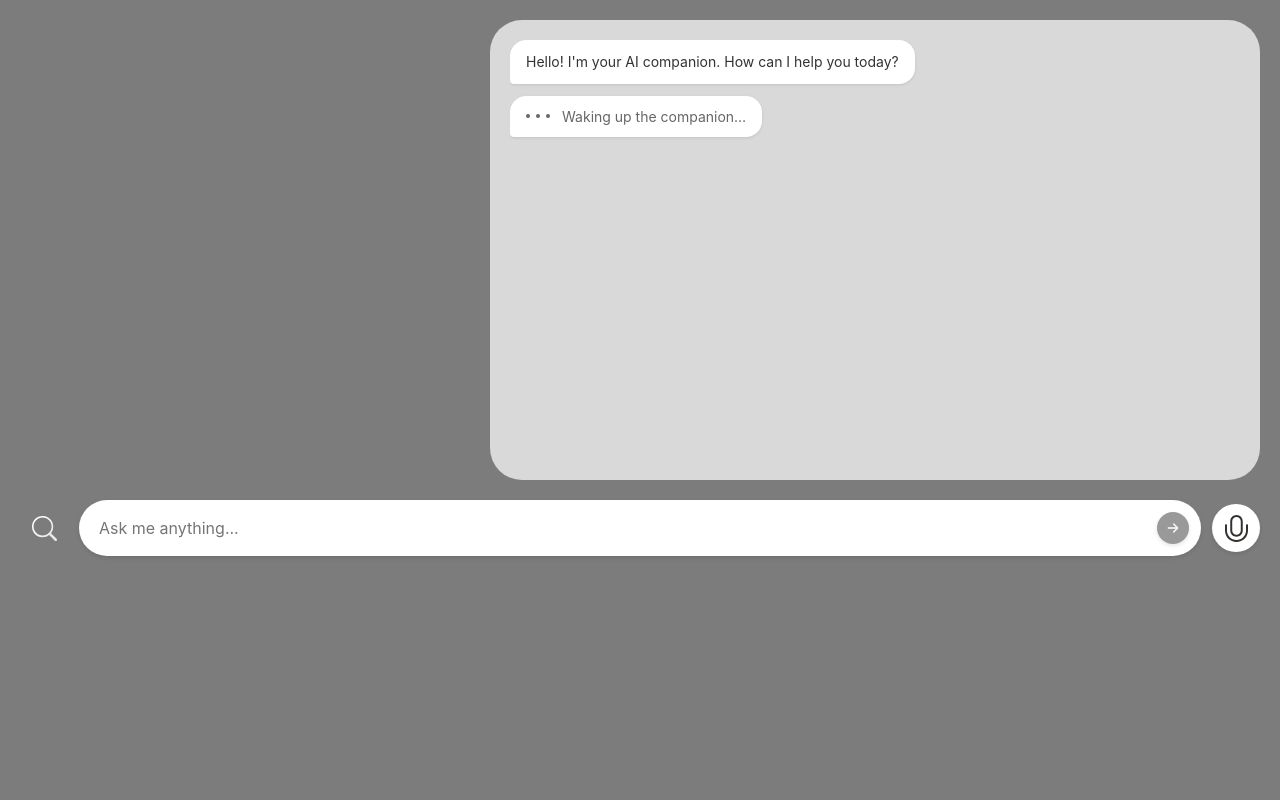
Test case: readiness failure retains the submission and explicit retry sends it once after recovery
The width and height of the screenshot is (1280, 800).
Step 1. Type "My question" into the field → (640, 528), box [79,500,1201,556]
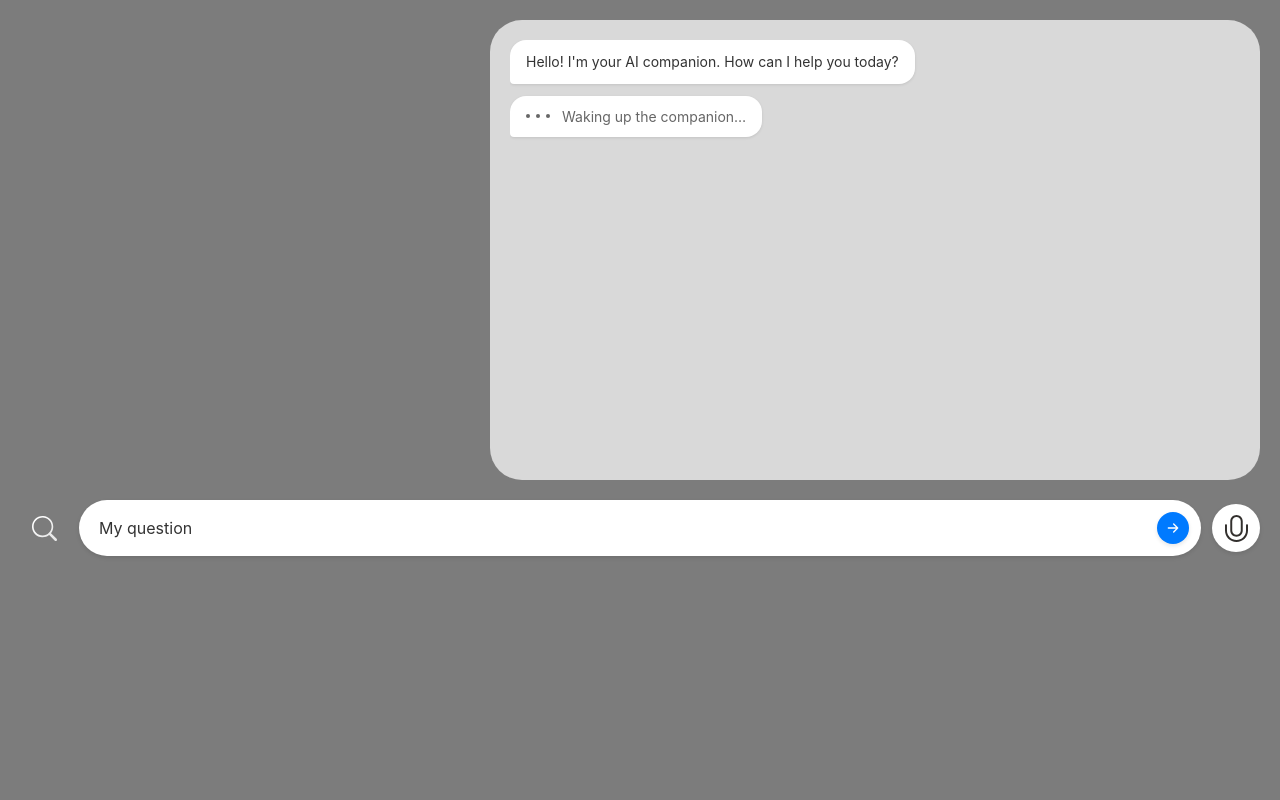
Step 2. Click the button named "Send message" → (1173, 528), box [1157,512,1189,544]
Wait 90000 ms
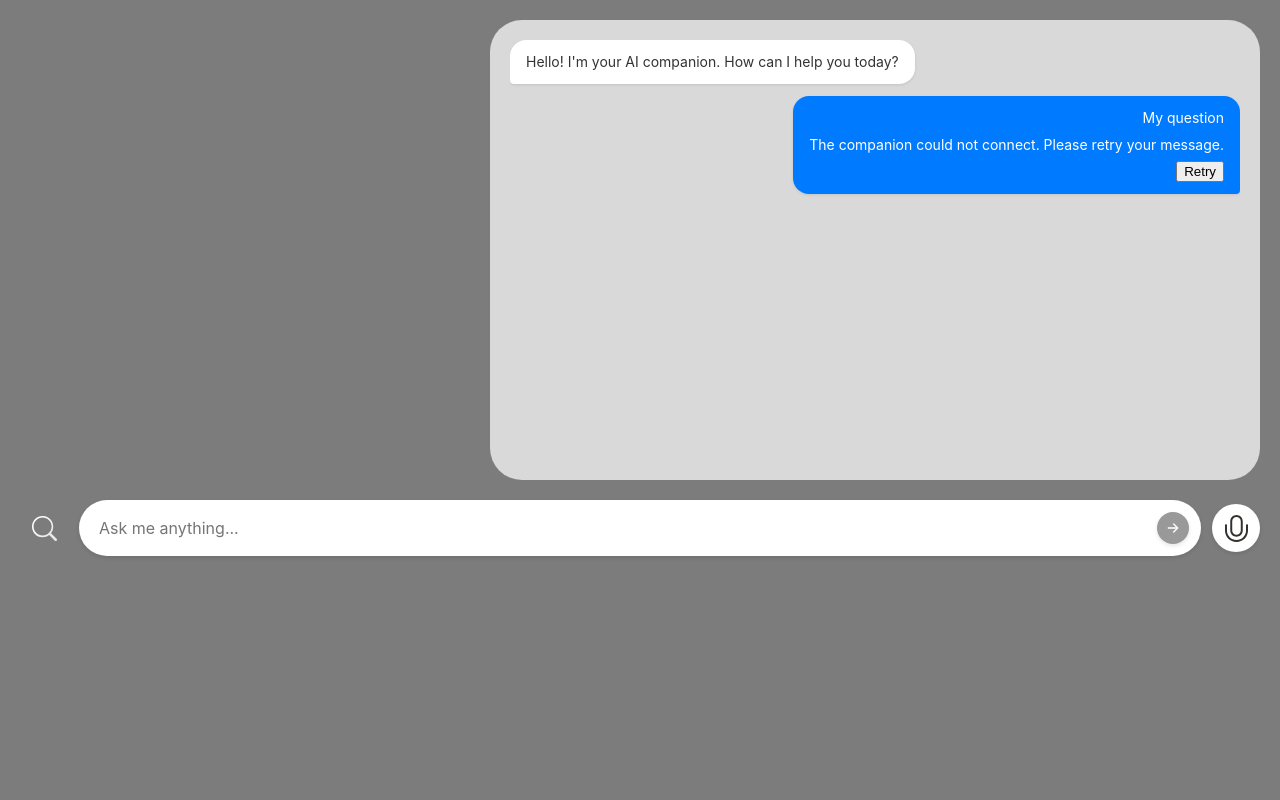
Result: the message shows "could not connect" at [809,136,1224,153]
Result: the text "My question" is shown once at [793,96,1240,194]
Step 3. Click the button with aria-label "Retry message" → (1200, 171), box [1176,161,1224,182]
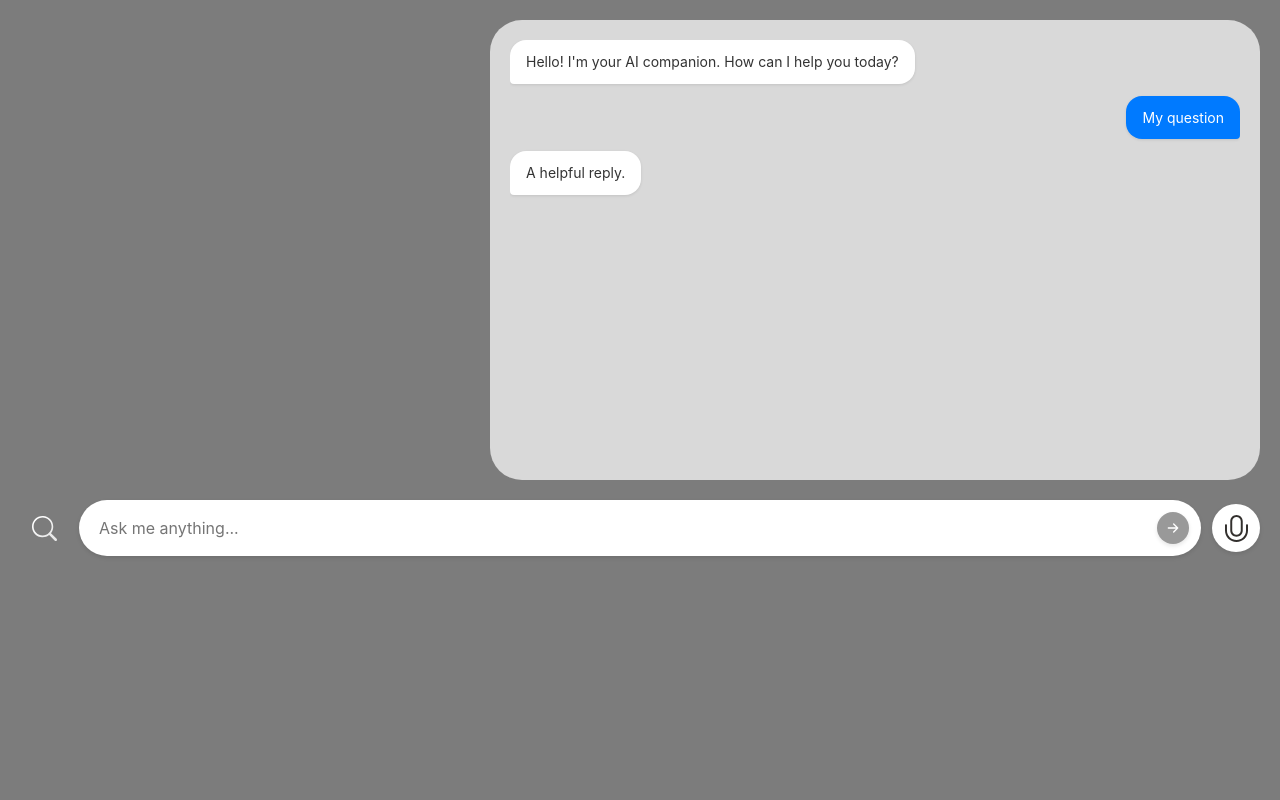
Result: the text "My question" is shown once at [1126,96,1240,139]
Result: the text "A helpful reply." is shown once at [510,151,641,195]
